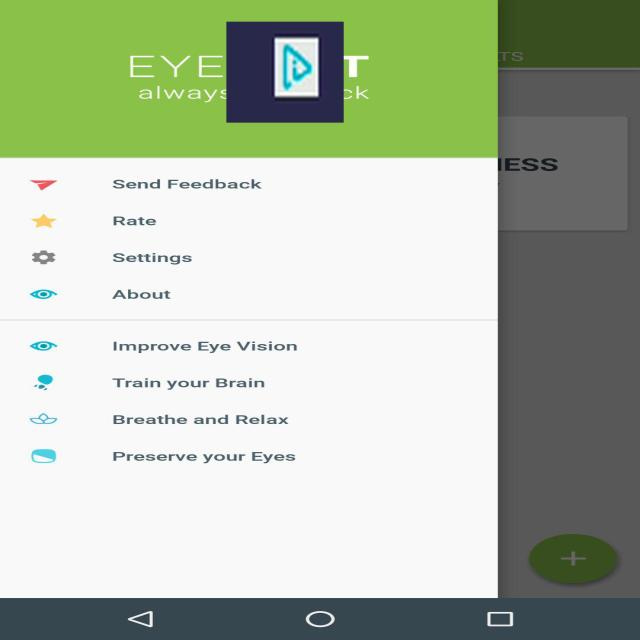sneaking: (226, 22, 344, 122)
